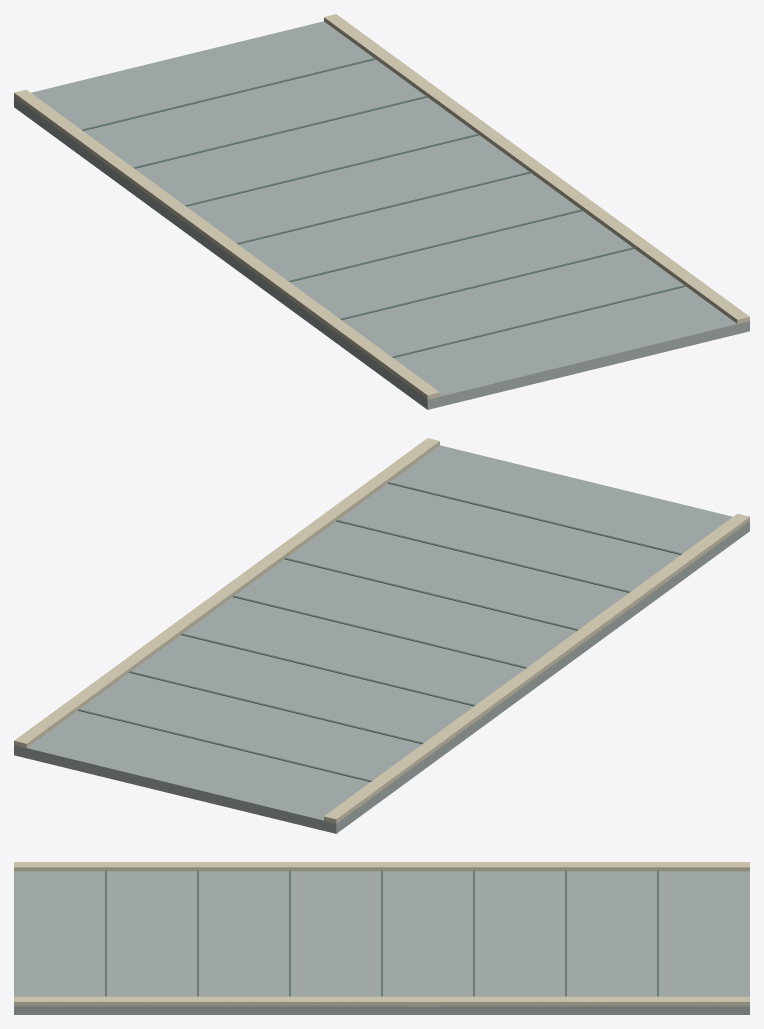
File: PLAZA-003.glb
3 views of the same model, one above another, from view 1: azimuth 30°, elevation 25°; view 2: azimuth 150°, elevation 25°; view 3: azimuth 270°, elevation 25° (orthographic). The views are drawn at different scales.
Parts seen in each view (by area): view 1: PLAZA-003; view 2: PLAZA-003; view 3: PLAZA-003.
Boxes of the visible parts, x1,y1,x2,y2 form: PLAZA-003: (14, 14, 749, 409); PLAZA-003: (14, 438, 749, 833); PLAZA-003: (14, 862, 749, 1014).
Size of the model in its own units: 3.6 by 0.155 by 8.
